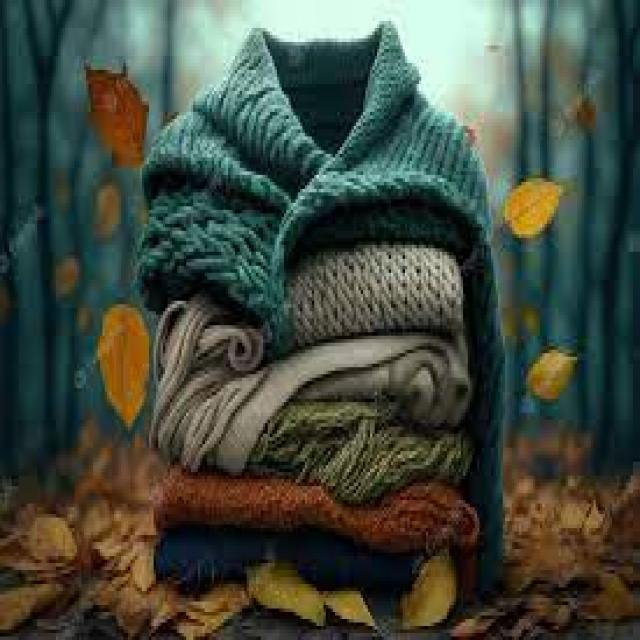Clothes -Biodegradable-: (139, 21, 502, 614)
